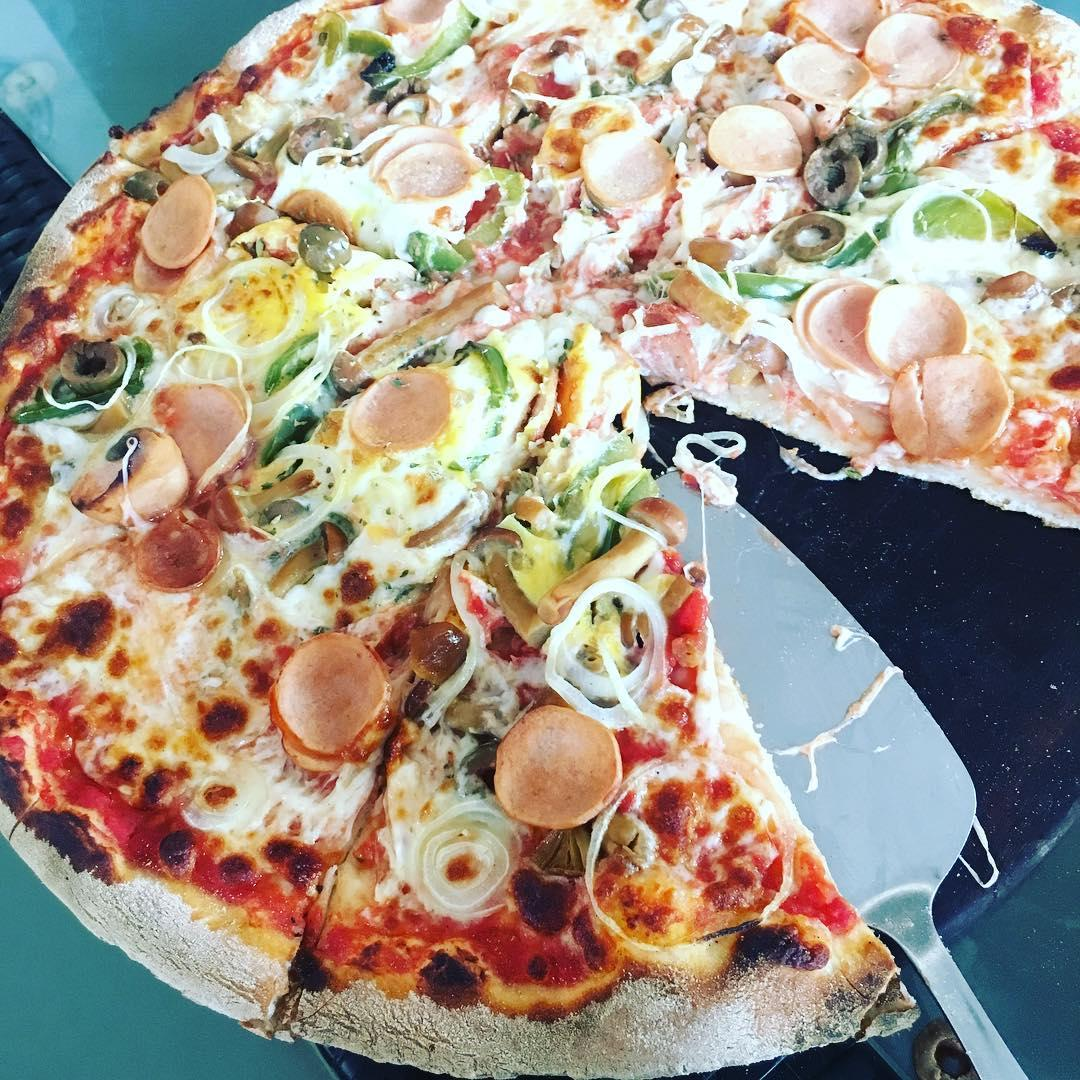Cheese: (91, 597, 260, 752), (233, 765, 394, 844), (341, 471, 453, 560), (561, 210, 665, 266), (43, 529, 126, 592), (493, 3, 616, 31), (669, 3, 750, 39)
Ham: (797, 277, 968, 369), (497, 706, 623, 828), (276, 637, 395, 753), (888, 355, 1011, 458), (150, 387, 247, 483), (711, 100, 808, 180), (579, 127, 676, 206), (138, 173, 215, 266), (869, 15, 962, 91), (355, 372, 448, 447), (375, 129, 472, 199), (776, 40, 869, 99), (790, 0, 880, 39), (382, 0, 448, 33)
Olives: (806, 127, 886, 206), (62, 340, 126, 391), (784, 215, 849, 260), (289, 119, 343, 165), (303, 223, 350, 270)
Onion: (542, 582, 664, 717)
Peppers: (850, 184, 1065, 261), (381, 9, 476, 87), (261, 381, 337, 464), (466, 340, 511, 436), (398, 226, 480, 273), (268, 328, 320, 395), (312, 11, 381, 57)
Pizza: (0, 0, 1080, 1080)
